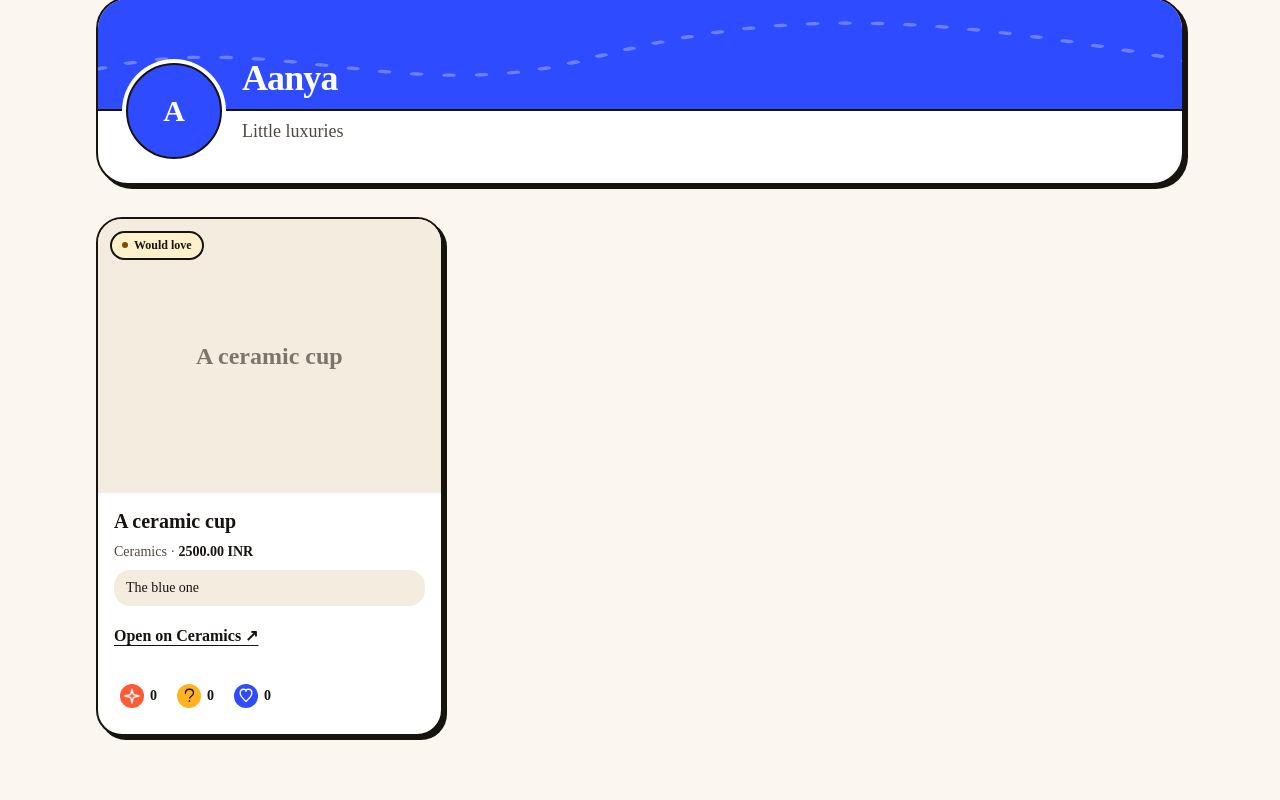
Test: PublicWishlistView › preserves the confirmed reaction and shows recovery copy on failure
The image size is (1280, 800).
(page scrolled)
Click the button named "Very you".
click(138, 696)  # box x1=114 y1=674 x2=163 y2=718
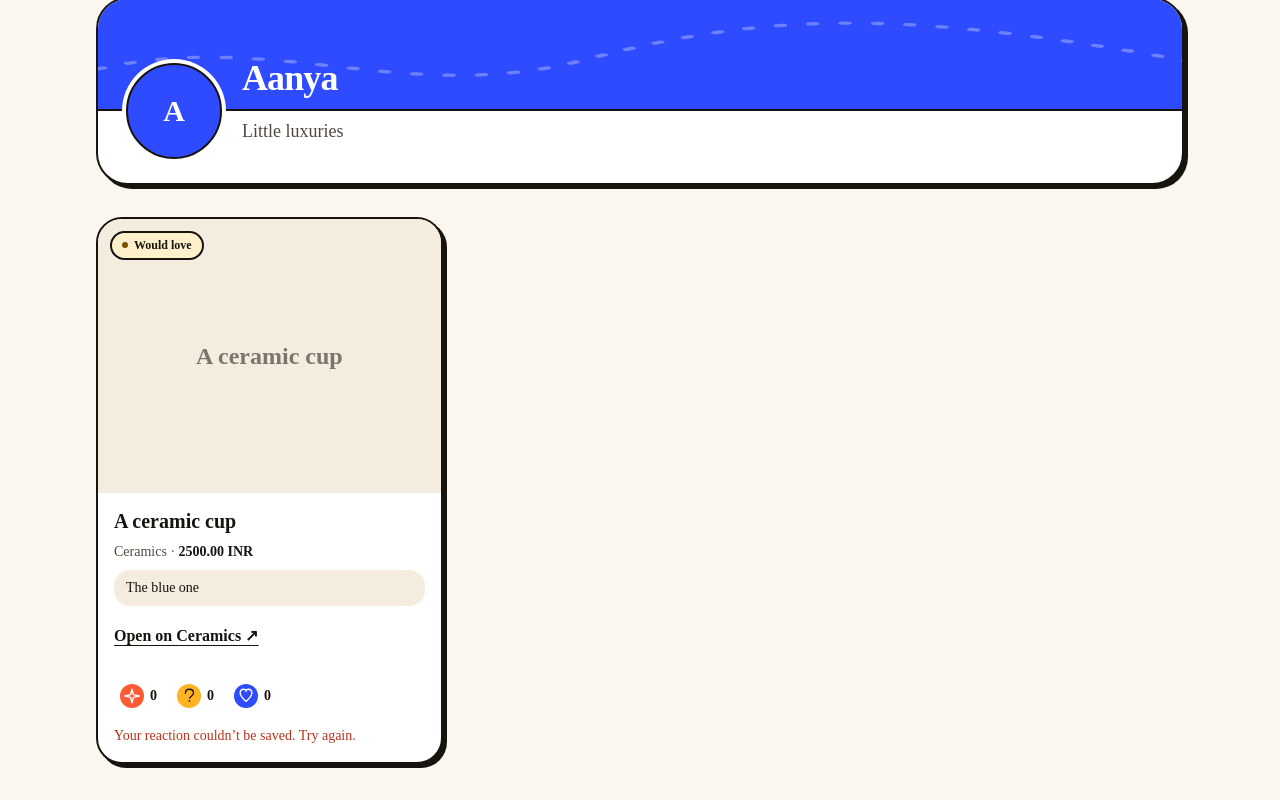
Check: the message shows "Your reaction couldn’t be saved", box x1=114 y1=728 x2=356 y2=743
